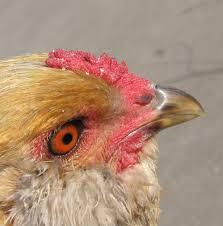AbNormal: (46, 46, 157, 101)
